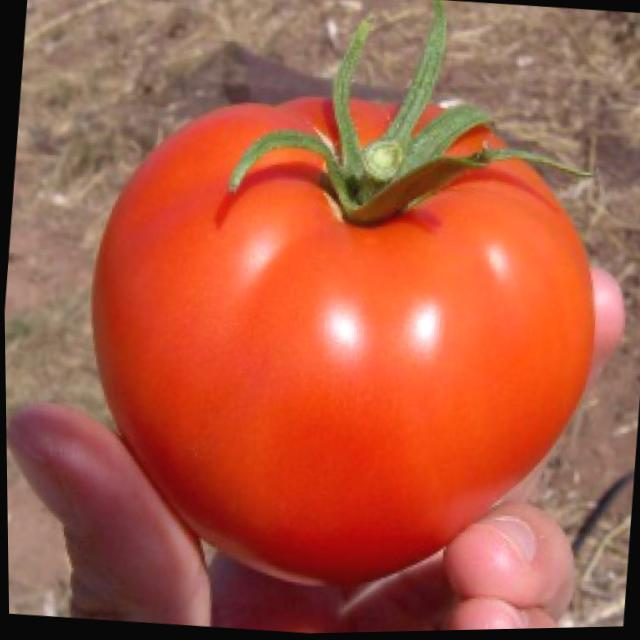tomato: (74, 59, 619, 611)
